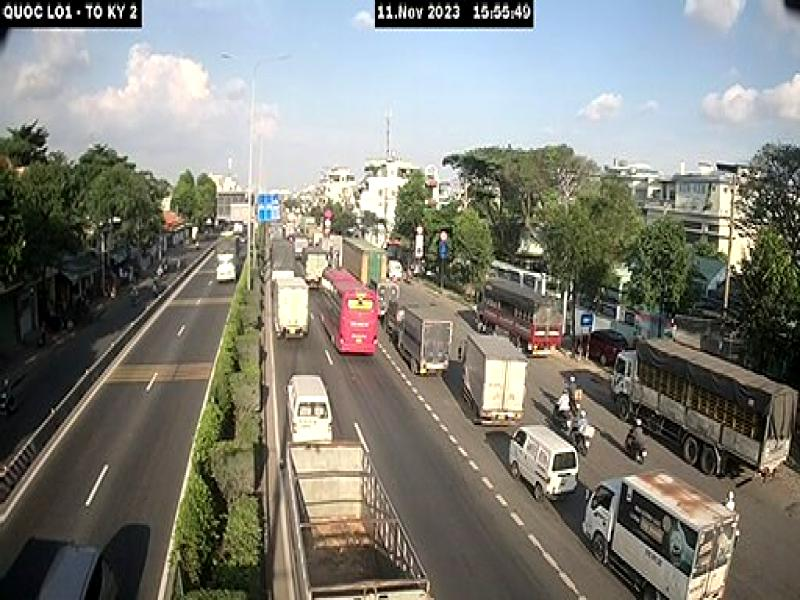bus: (318, 264, 379, 356)
truck: (611, 334, 798, 477), (282, 436, 428, 600), (584, 469, 742, 600), (474, 279, 567, 358), (458, 331, 527, 431), (397, 302, 453, 383), (272, 271, 310, 339)
